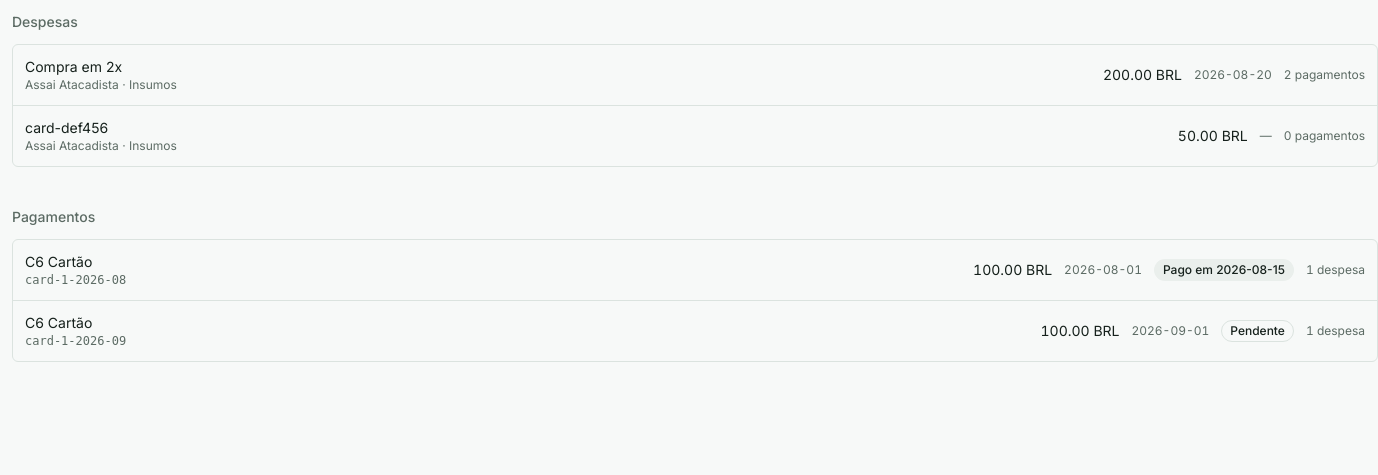
Test: opening a payment › names the expense it discharges, with party and category
Expected: the heading "Despesas" is shown, [12, 13, 78, 30]
Step 1. Click the 3rd button → click(59, 262), box [25, 248, 1365, 292]
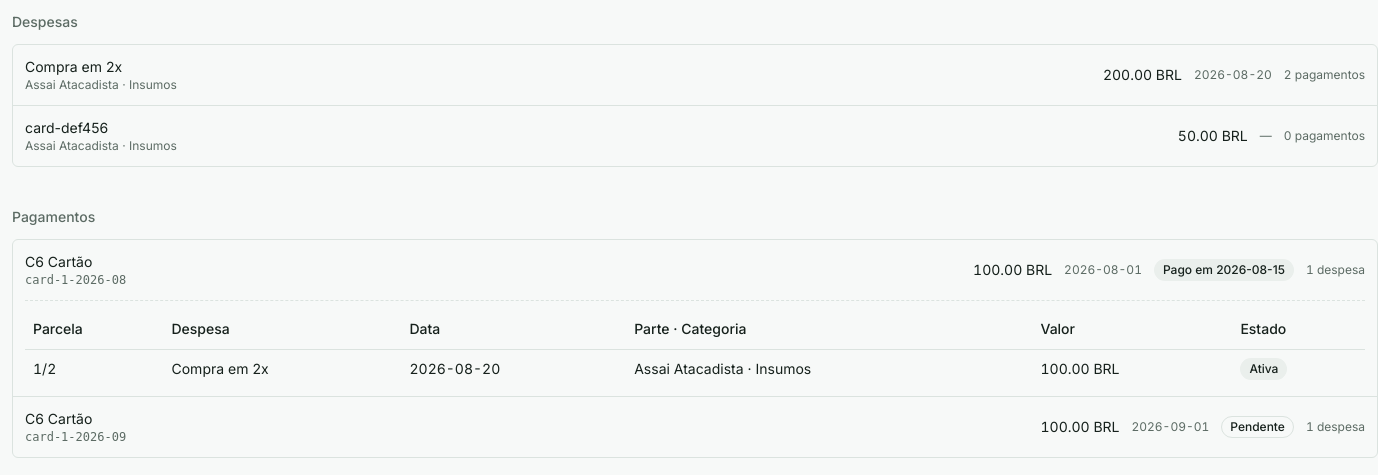
Now the text "Compra em 2x" is shown, box [164, 349, 402, 388]
Now the text "Assai Atacadista · Insumos" is shown, box [626, 349, 1032, 388]
